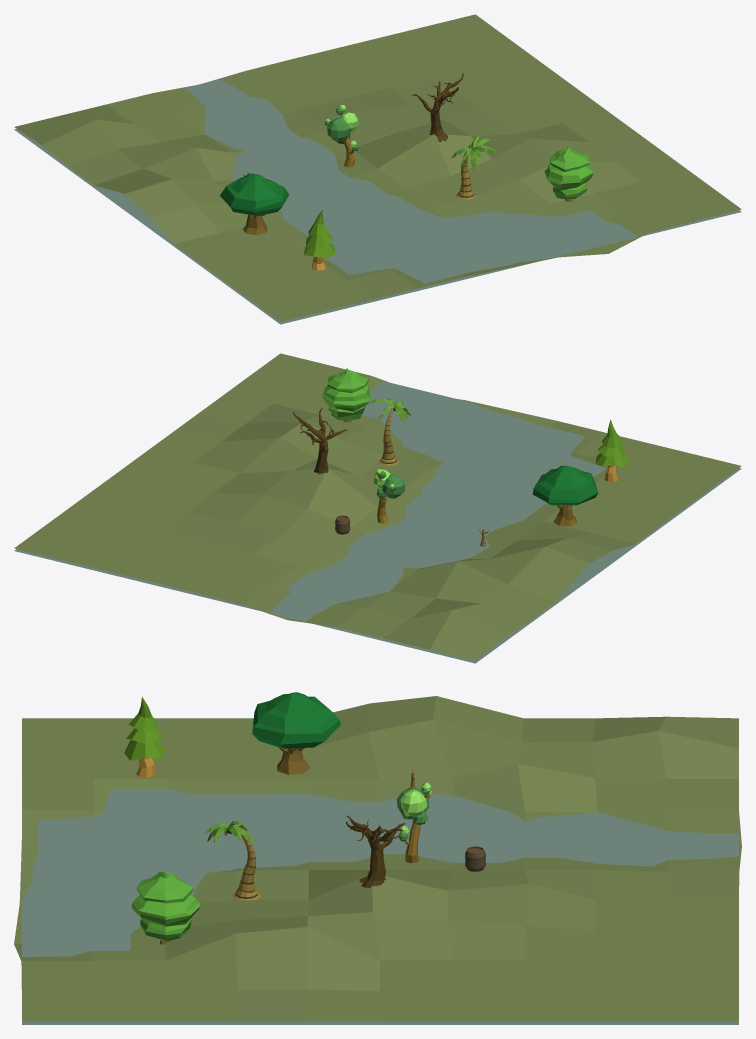
3 renders of one model, top to bottom at view 1: azimuth 30°, elevation 25°; view 2: azimuth 150°, elevation 25°; view 3: azimuth 270°, elevation 25°, orthographic. The views are drawn at different scales.
Visible parts, largest first — view 1: Grid, Grid.001, Circle.005, Circle.007, Circle.001, Circle, Circle.002, Circle.006; view 2: Grid, Grid.001, Circle.005, Circle.007, Circle.001, Circle, Circle.002, Circle.006; view 3: Grid, Grid.001, Circle.005, Circle.007, Circle.001, Circle, Circle.006, Circle.002.
Part boxes in pixels (bbox=[...]): Grid: bbox=[14, 14, 741, 321]; Grid.001: bbox=[14, 79, 741, 324]; Circle.005: bbox=[220, 173, 289, 235]; Circle.007: bbox=[544, 146, 593, 201]; Circle.001: bbox=[304, 210, 335, 270]; Circle: bbox=[325, 105, 358, 167]; Circle.002: bbox=[451, 135, 497, 199]; Circle.006: bbox=[412, 73, 463, 142]; Grid: bbox=[14, 353, 741, 660]; Grid.001: bbox=[14, 381, 741, 663]; Circle.005: bbox=[532, 465, 598, 526]; Circle.007: bbox=[322, 368, 371, 422]; Circle.001: bbox=[595, 419, 628, 481]; Circle: bbox=[374, 469, 405, 523]; Circle.002: bbox=[368, 398, 410, 465]; Circle.006: bbox=[293, 408, 347, 473]; Grid: bbox=[14, 696, 741, 1021]; Grid.001: bbox=[22, 789, 738, 1024]; Circle.005: bbox=[252, 692, 340, 774]; Circle.007: bbox=[131, 870, 200, 944]; Circle.001: bbox=[124, 697, 165, 777]; Circle: bbox=[396, 782, 431, 863]; Circle.006: bbox=[346, 815, 405, 887]; Circle.002: bbox=[205, 821, 260, 900].
Bounding box in the file's own units: 100 × 19.46 × 102.
